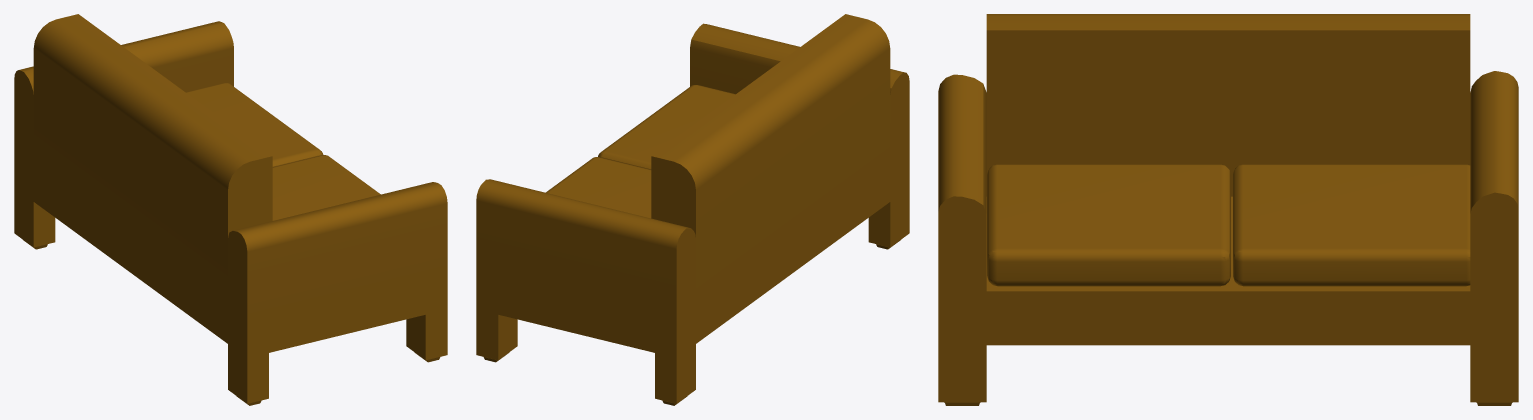
File: Couch.fbx
The picture shows the model from 3 angles, left to right: view 1: azimuth 30°, elevation 25°; view 2: azimuth 150°, elevation 25°; view 3: azimuth 270°, elevation 25°; orthographic projection. The views are drawn at different scales.
Parts seen in each view (by area): view 1: Couch, Pillow, Pillow1; view 2: Couch, Pillow, Pillow1; view 3: Couch, Pillow, Pillow1.
Boxes of the visible parts, x1=… form: Couch: x1=14, y1=14, x2=447, y2=405; Pillow: x1=272, y1=155, x2=380, y2=220; Pillow1: x1=186, y1=83, x2=323, y2=166; Couch: x1=476, y1=14, x2=909, y2=405; Pillow: x1=598, y1=85, x2=735, y2=169; Pillow1: x1=546, y1=157, x2=651, y2=218; Couch: x1=938, y1=14, x2=1518, y2=405; Pillow: x1=987, y1=164, x2=1230, y2=286; Pillow1: x1=1233, y1=164, x2=1470, y2=286.
Size of the model in its own units: 14.29 by 15.56 by 28.8.
